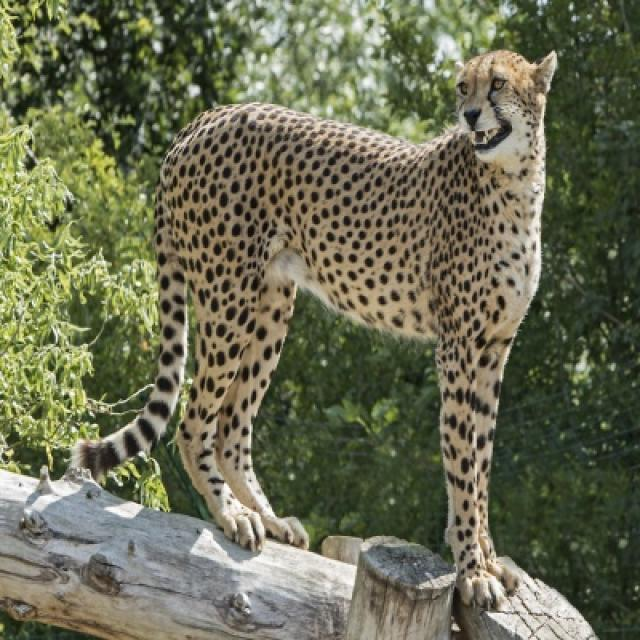Cheetah: (69, 51, 560, 638)
